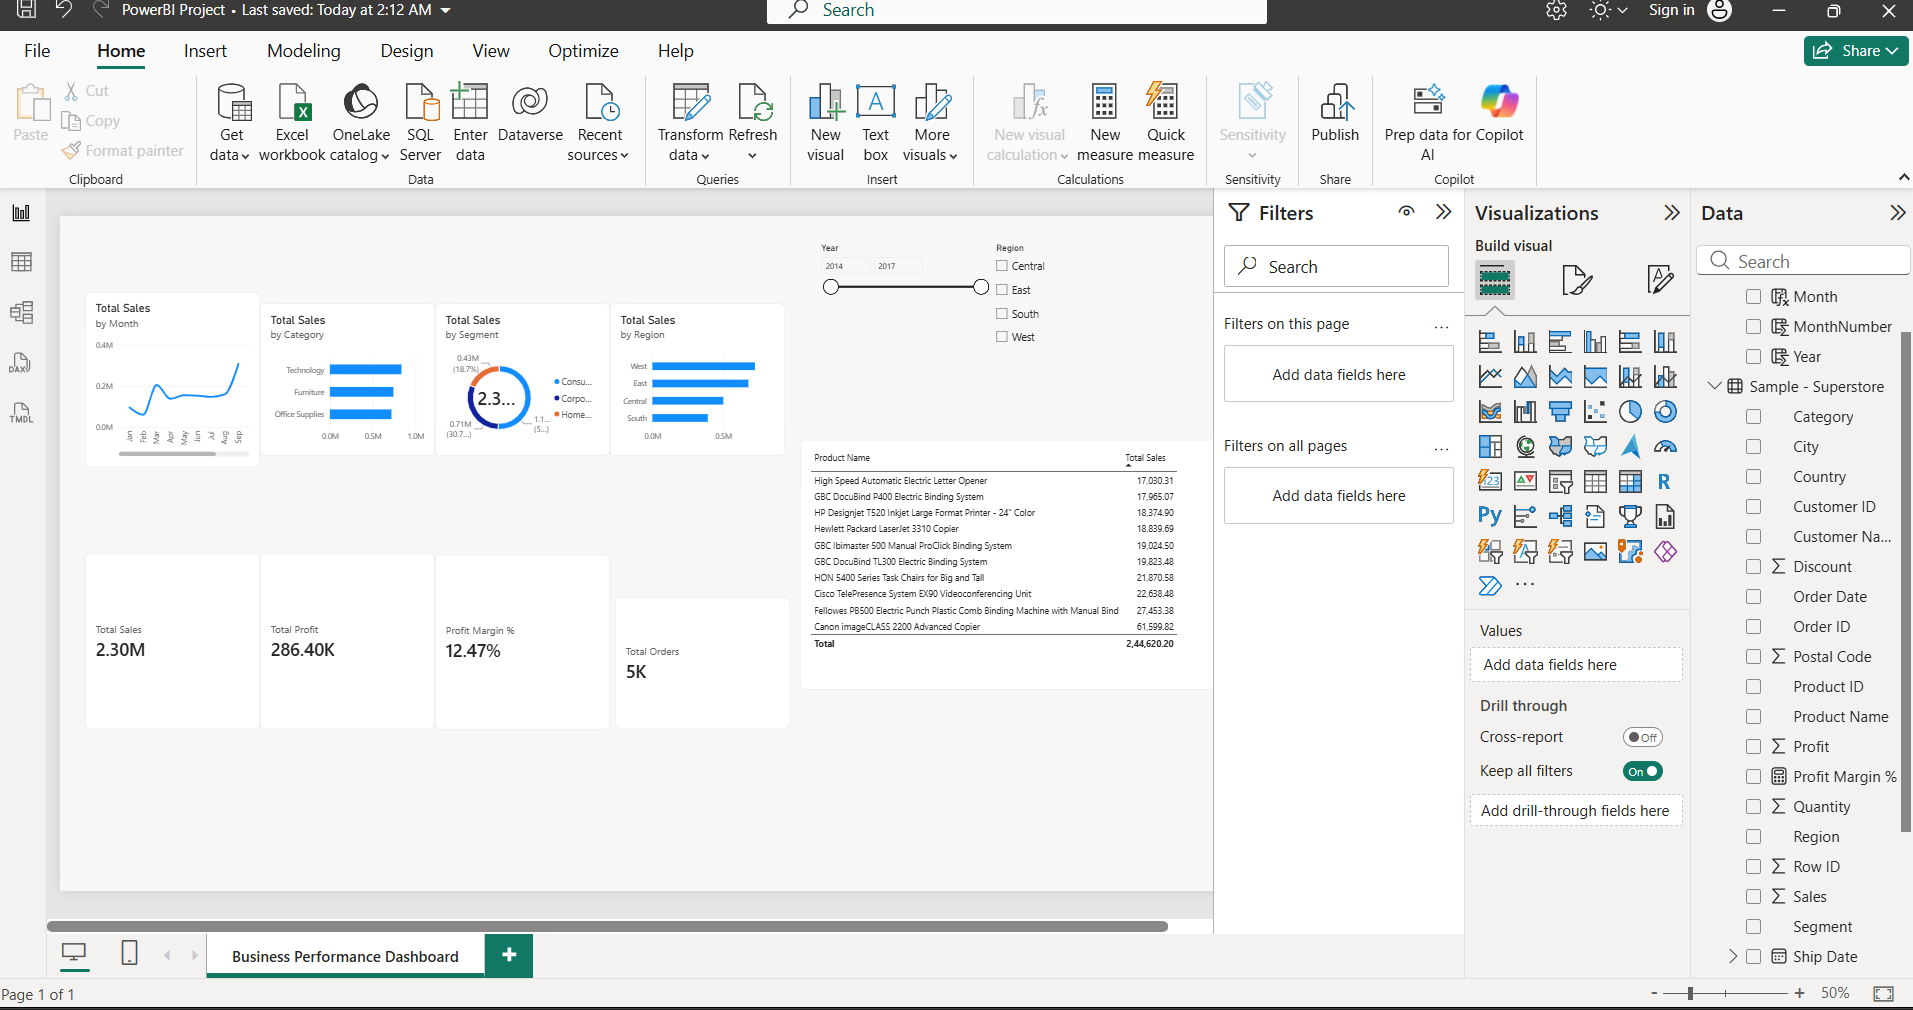

The dashboard page shown, as its layout file describes it:
{"tool":"powerbi","page":{"name":"Business Performance Dashboard","canvas":[1920,1080],"ordinal":0},"visuals":[{"type":"cardVisual","fields":{"Data":["Sample - Superstore.Total Sales"]},"box":[40,540,280,280],"z":0},{"type":"cardVisual","fields":{"Data":["Sample - Superstore.Total Profit"]},"box":[320,540,280,280],"z":1},{"type":"cardVisual","fields":{"Data":["Sample - Superstore.Profit Margin %"]},"box":[600,542,280,280],"z":2},{"type":"cardVisual","fields":{"Data":["Sample - Superstore.Total Orders"]},"box":[888,610,280,210],"z":3},{"type":"lineChart","fields":{"Category":["Calendar.Month"],"Y":["Sample - Superstore.Total Sales"]},"box":[40,122.5,280,280],"z":4},{"type":"clusteredBarChart","fields":{"Category":["Sample - Superstore.Category"],"Y":["Sample - Superstore.Total Sales"]},"box":[320,140,280,243],"z":5},{"type":"donutChart","fields":{"Category":["Sample - Superstore.Segment"],"Y":["Sample - Superstore.Total Sales"]},"box":[600,140,280,243],"z":6},{"type":"clusteredBarChart","fields":{"Category":["Sample - Superstore.Region"],"Y":["Sample - Superstore.Total Sales"]},"box":[880,140,280,243],"z":7},{"type":"tableEx","fields":{"Values":["Sample - Superstore.Product Name","Sample - Superstore.Total Sales"]},"box":[1184,358,686,400],"z":8},{"type":"slicer","fields":{"Values":["Sample - Superstore.Region"]},"box":[1490,42,280,184],"z":9},{"type":"slicer","fields":{"Values":["Calendar.Year"]},"box":[1210,42,280,157],"z":10}]}

Visuals, with their boxes on the page's 1920x1080 design canvas (x1, y1, x2, y2). These are canvas units, not pixel positions in the 1913x1010 screenshot, which may show the page scaled, cropped or inside an application window:
cardVisual - Sample - Superstore.Total Sales: (x1=40, y1=540, x2=320, y2=820)
cardVisual - Sample - Superstore.Total Profit: (x1=320, y1=540, x2=600, y2=820)
cardVisual - Sample - Superstore.Profit Margin %: (x1=600, y1=542, x2=880, y2=822)
cardVisual - Sample - Superstore.Total Orders: (x1=888, y1=610, x2=1168, y2=820)
lineChart - Calendar.Month x Sample - Superstore.Total Sales: (x1=40, y1=122, x2=320, y2=402)
clusteredBarChart - Sample - Superstore.Category x Sample - Superstore.Total Sales: (x1=320, y1=140, x2=600, y2=383)
donutChart - Sample - Superstore.Segment x Sample - Superstore.Total Sales: (x1=600, y1=140, x2=880, y2=383)
clusteredBarChart - Sample - Superstore.Region x Sample - Superstore.Total Sales: (x1=880, y1=140, x2=1160, y2=383)
tableEx - Sample - Superstore.Product Name x Sample - Superstore.Total Sales: (x1=1184, y1=358, x2=1870, y2=758)
slicer - Sample - Superstore.Region: (x1=1490, y1=42, x2=1770, y2=226)
slicer - Calendar.Year: (x1=1210, y1=42, x2=1490, y2=199)
